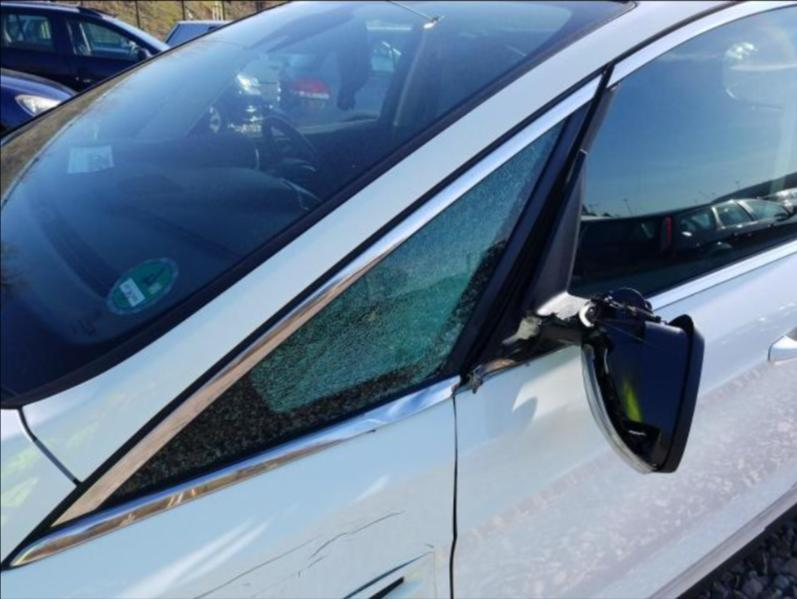Broken part: (463, 288, 705, 476)
Cracked: (101, 119, 564, 508)
Dent: (285, 382, 439, 447)
Scratch: (191, 540, 315, 598), (300, 511, 405, 565), (325, 428, 376, 448), (247, 581, 278, 598), (303, 554, 326, 572), (240, 580, 251, 589), (295, 569, 303, 579), (424, 542, 435, 547)
